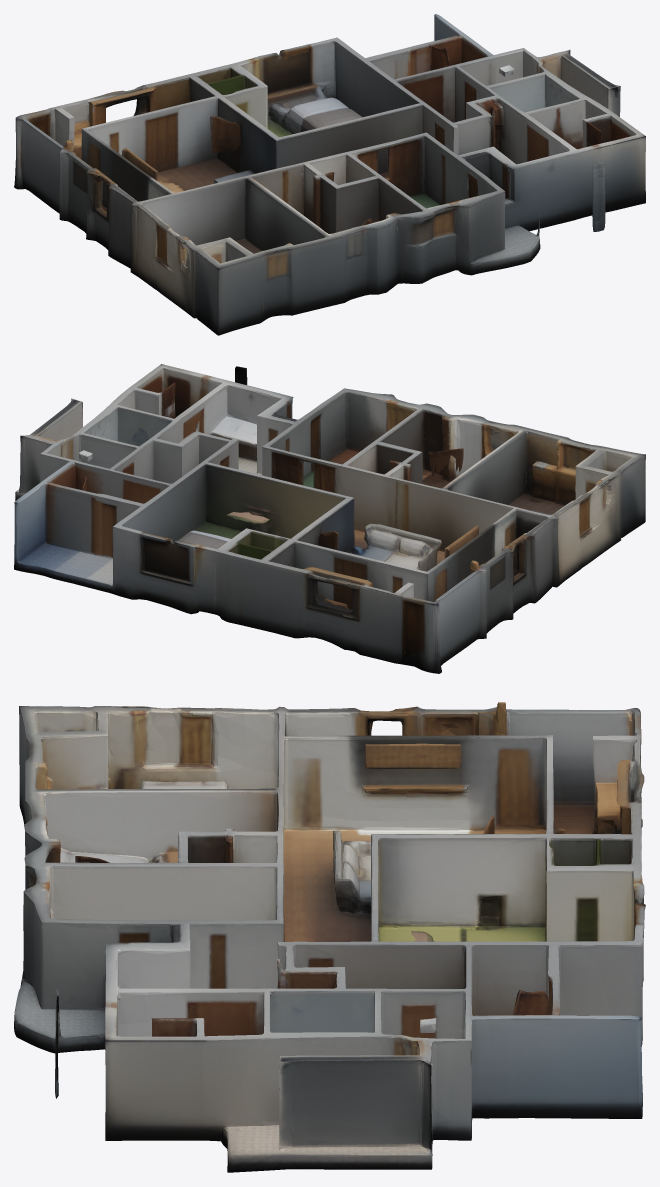
3 renders of one model, top to bottom at view 1: azimuth 30°, elevation 25°; view 2: azimuth 150°, elevation 25°; view 3: azimuth 270°, elevation 25°, orthographic. The views are drawn at different scales.
Visible parts, largest first — view 1: world; view 2: world; view 3: world.
Boxes of the visible parts, x1=… form: world: x1=14, y1=14, x2=645, y2=335; world: x1=14, y1=364, x2=645, y2=673; world: x1=14, y1=702, x2=645, y2=1172.
Bounding box in the file's own units: 0.9999 × 0.1503 × 0.7359.
1 material, 1 textured.
